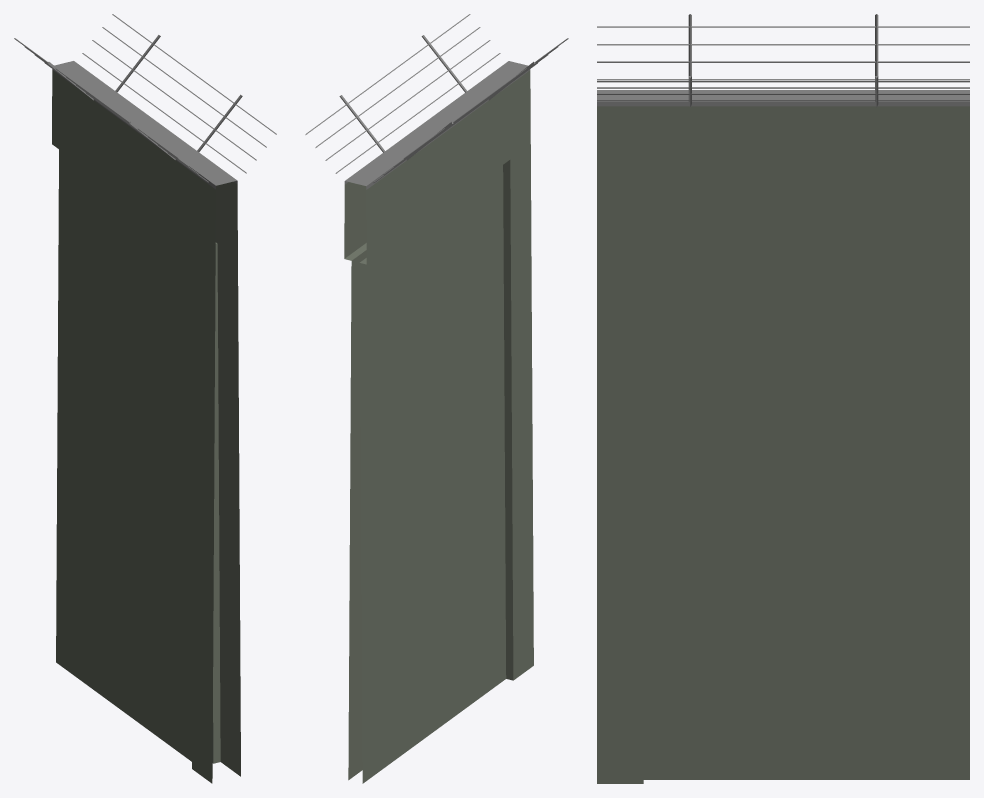
Rendered from Wall_02.fbx.
3 views of the same model, side by side, from view 1: azimuth 30°, elevation 25°; view 2: azimuth 150°, elevation 25°; view 3: azimuth 270°, elevation 25° (orthographic). The views are drawn at different scales.
Visible parts, largest first — view 1: Booléen_1; view 2: Booléen_1; view 3: Booléen_1.
Part boxes in pixels (x1,y1,x2,y2): Booléen_1: (14, 14, 276, 783); Booléen_1: (305, 14, 568, 783); Booléen_1: (597, 14, 969, 783).
Bounding box in the file's own units: 79.96 × 433 × 200.
Materials: 1 (1 with a texture image).
